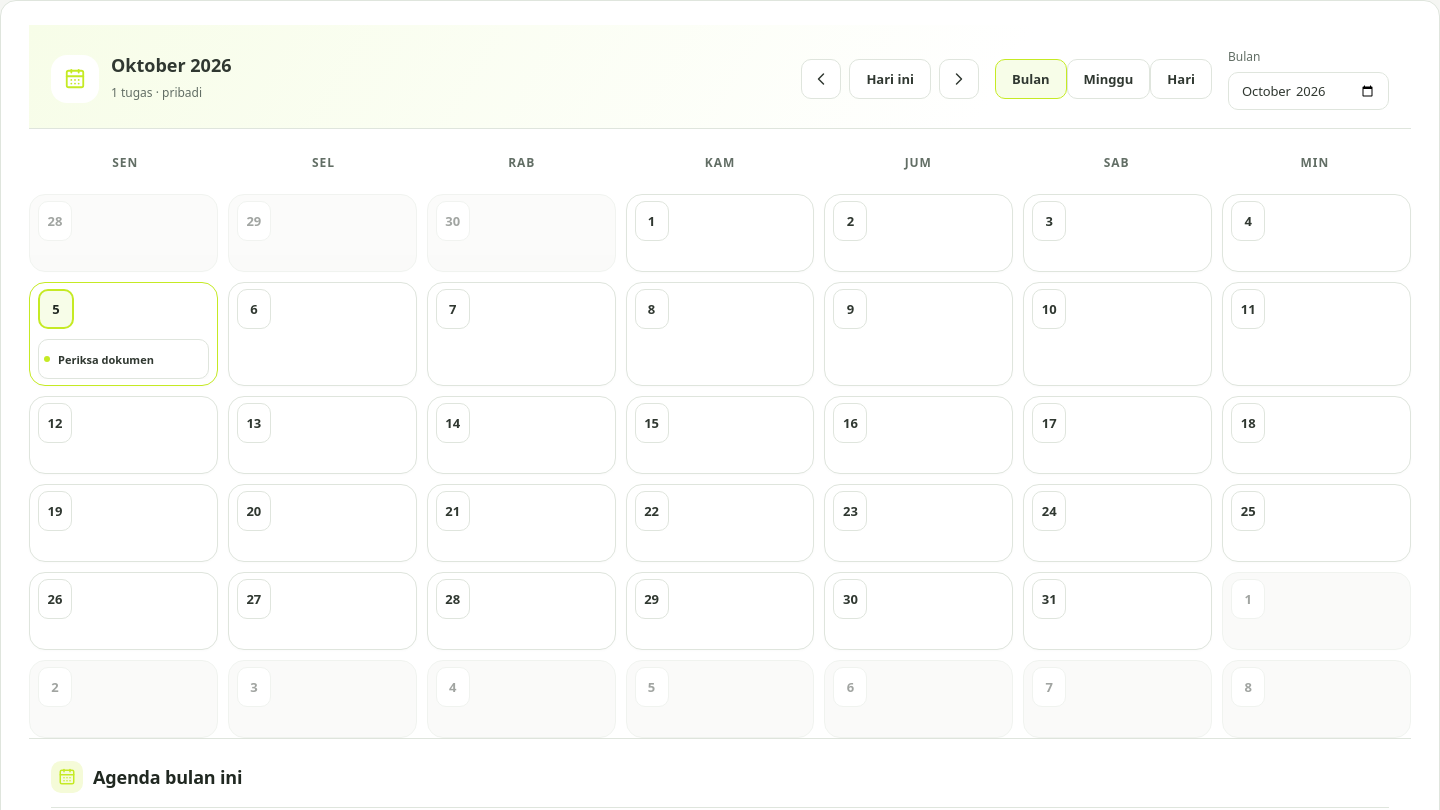
pindah tahun dan kembali ke hari ini tanpa kehilangan agenda
Replace the text in the field named "Bulan kalender" with "2026-12" at [1308, 91], box x1=1228 y1=72 x2=1389 y2=110
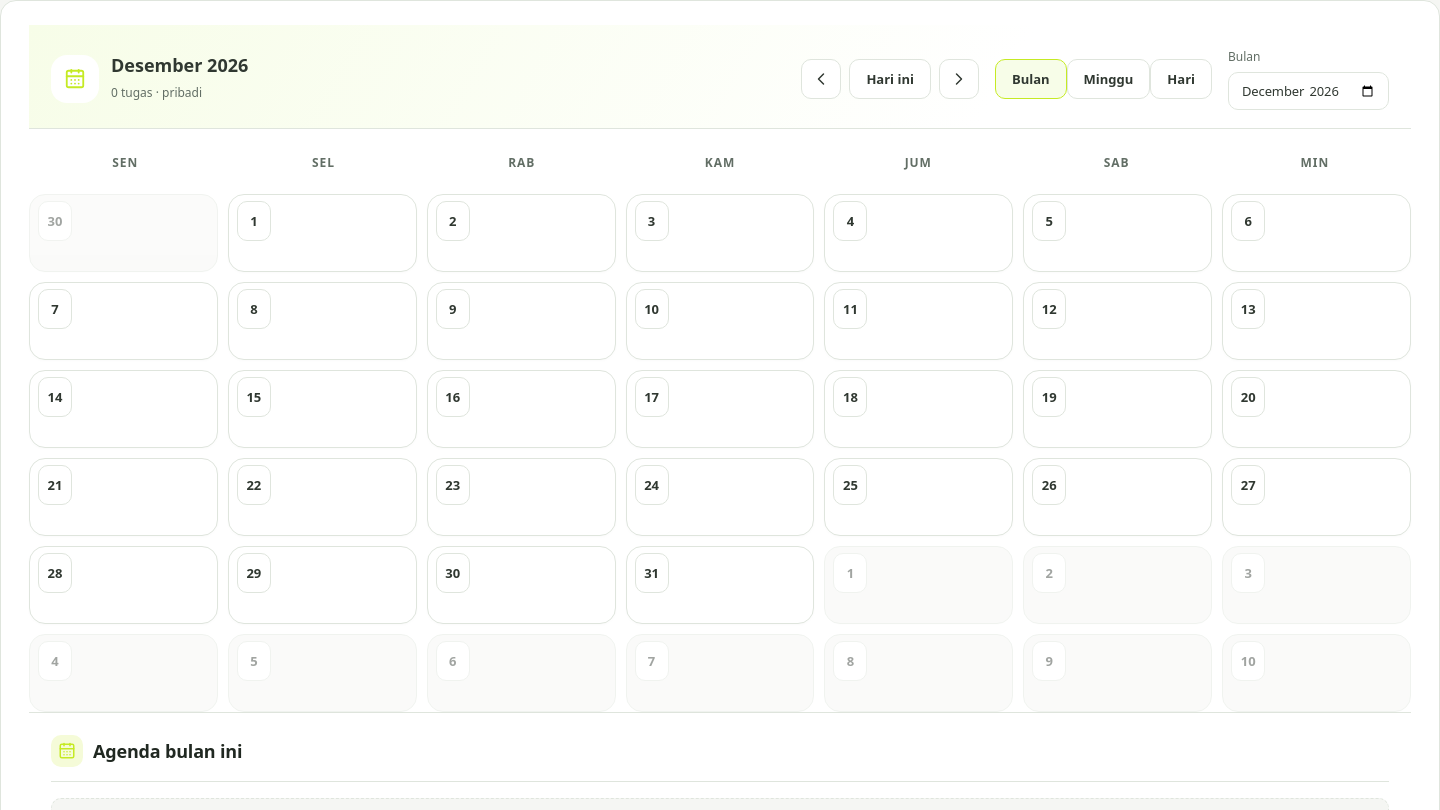
Click the button named "Bulan berikutnya" at [959, 79], box x1=939 y1=59 x2=979 y2=99
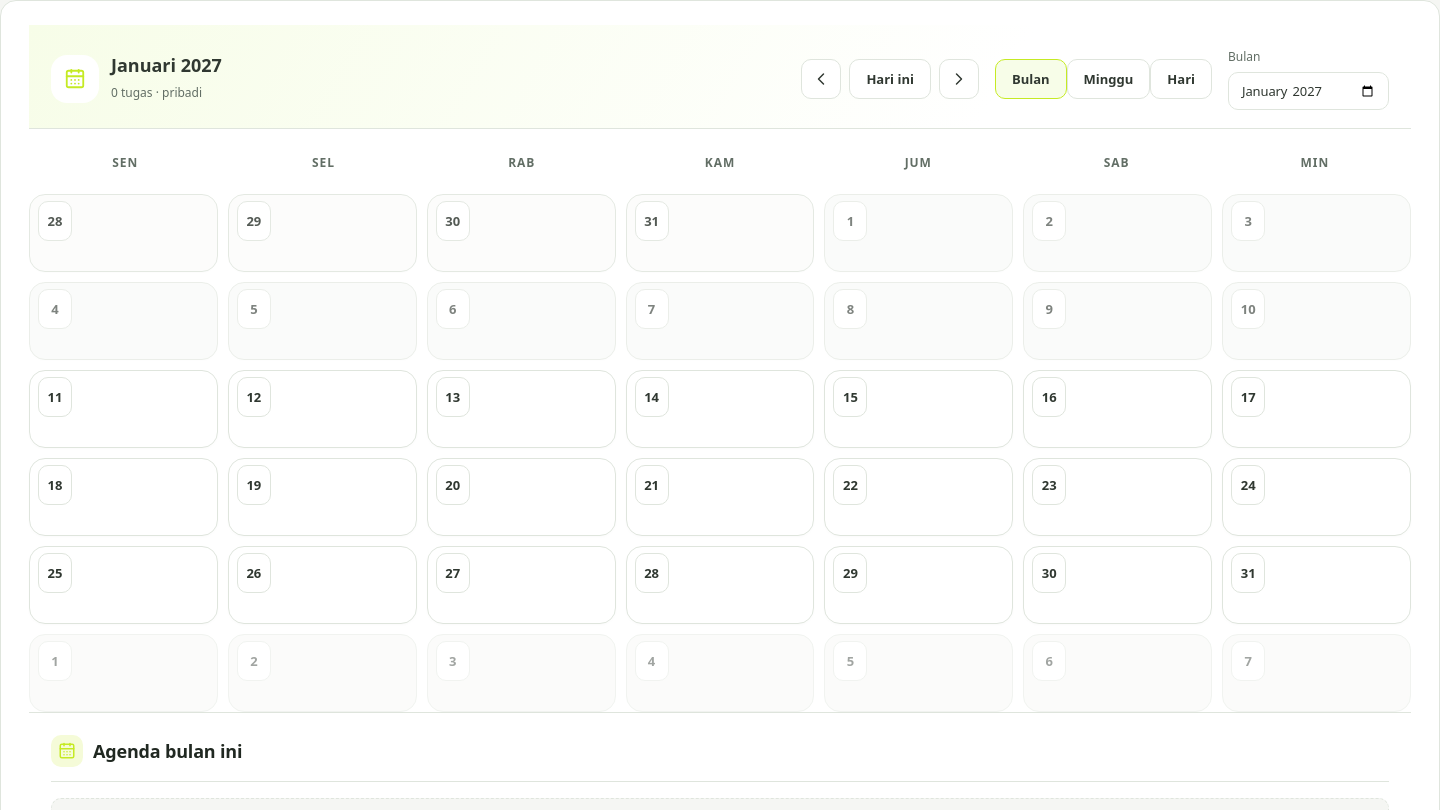
expect the field named "Bulan kalender" holds "2027-01": met, box x1=1228 y1=72 x2=1389 y2=110
Click the button named "Bulan sebelumnya" at [821, 79], box x1=801 y1=59 x2=841 y2=99
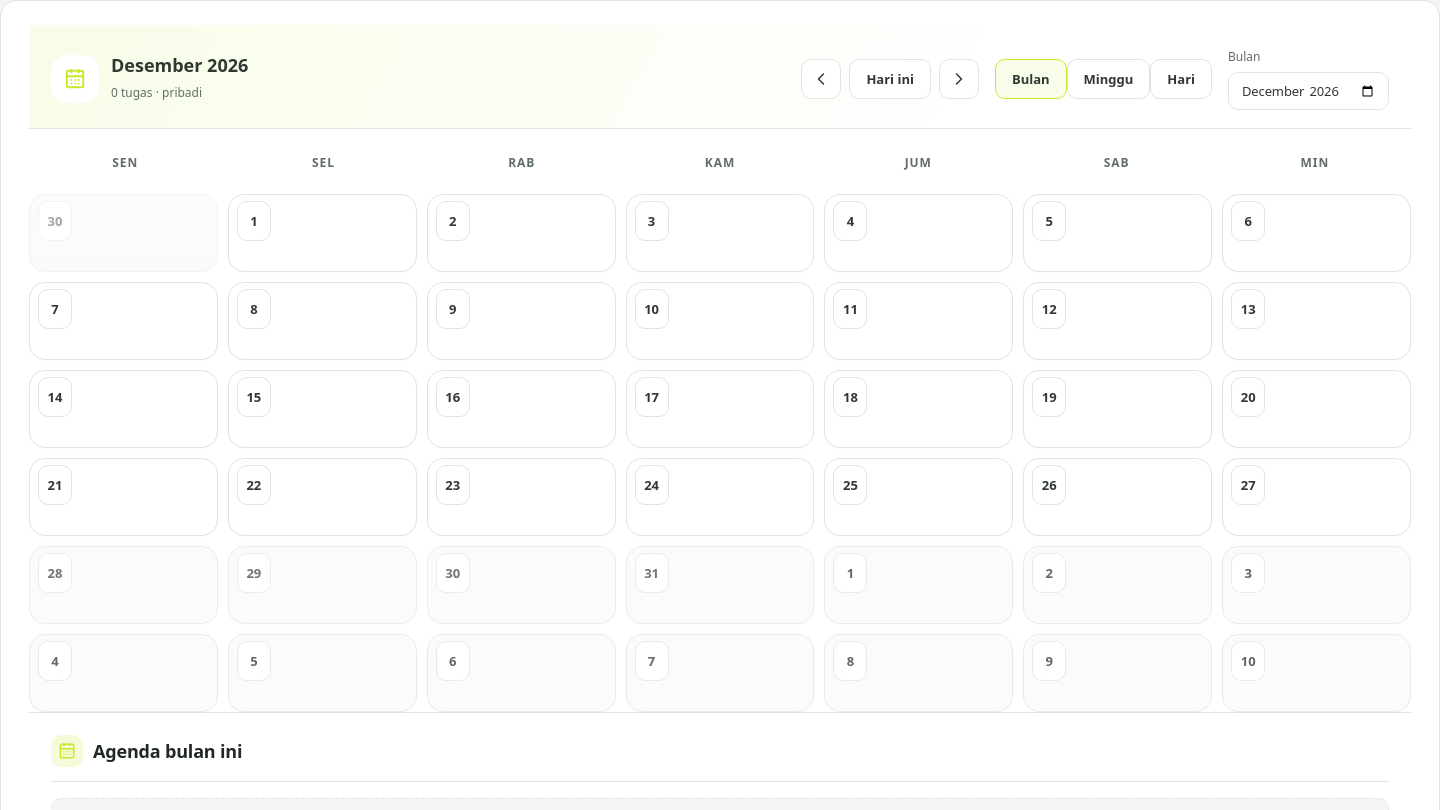
Click the button "Hari ini" at [890, 79], box x1=849 y1=59 x2=931 y2=99
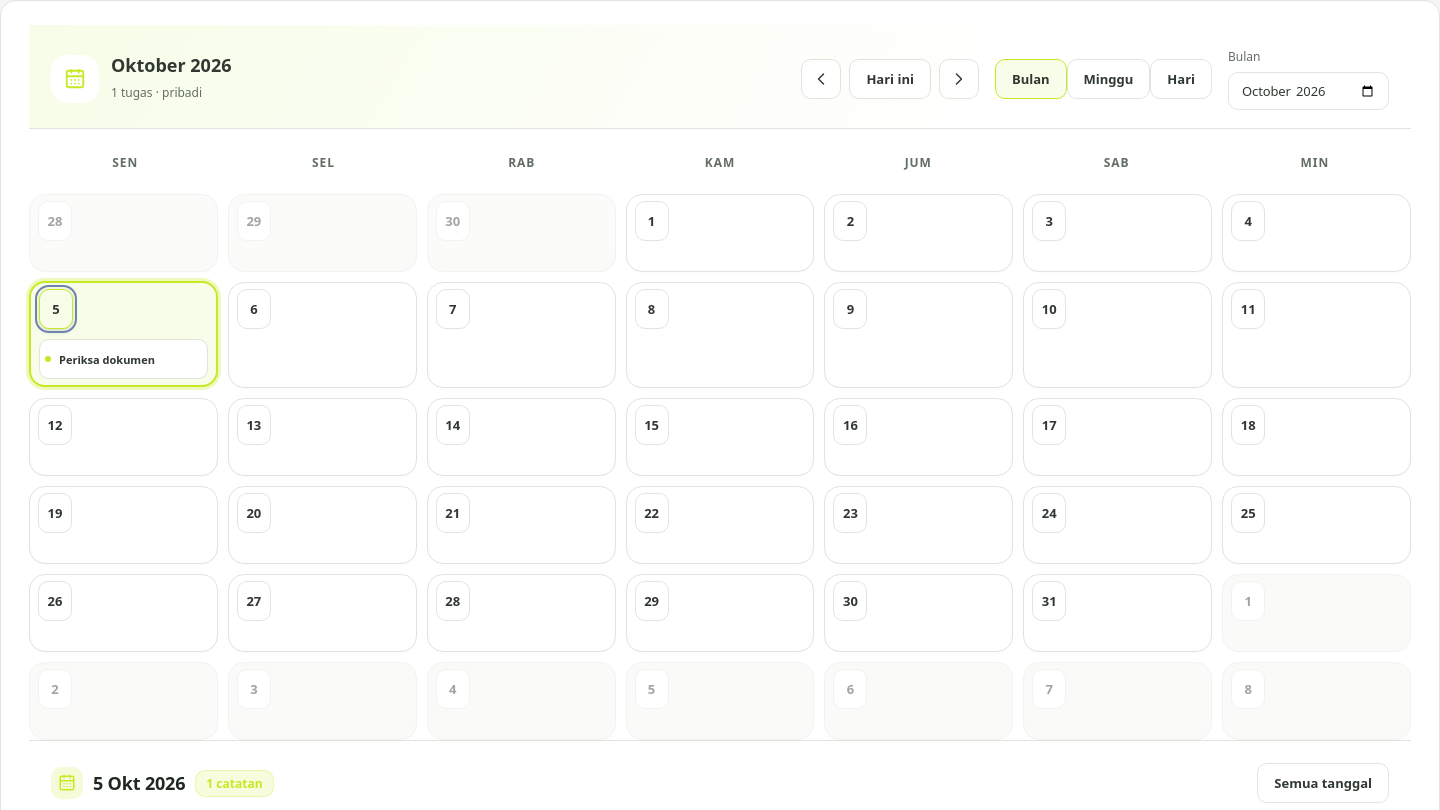
expect the button "Semua tanggal" is shown: met, box x1=1257 y1=763 x2=1389 y2=803
